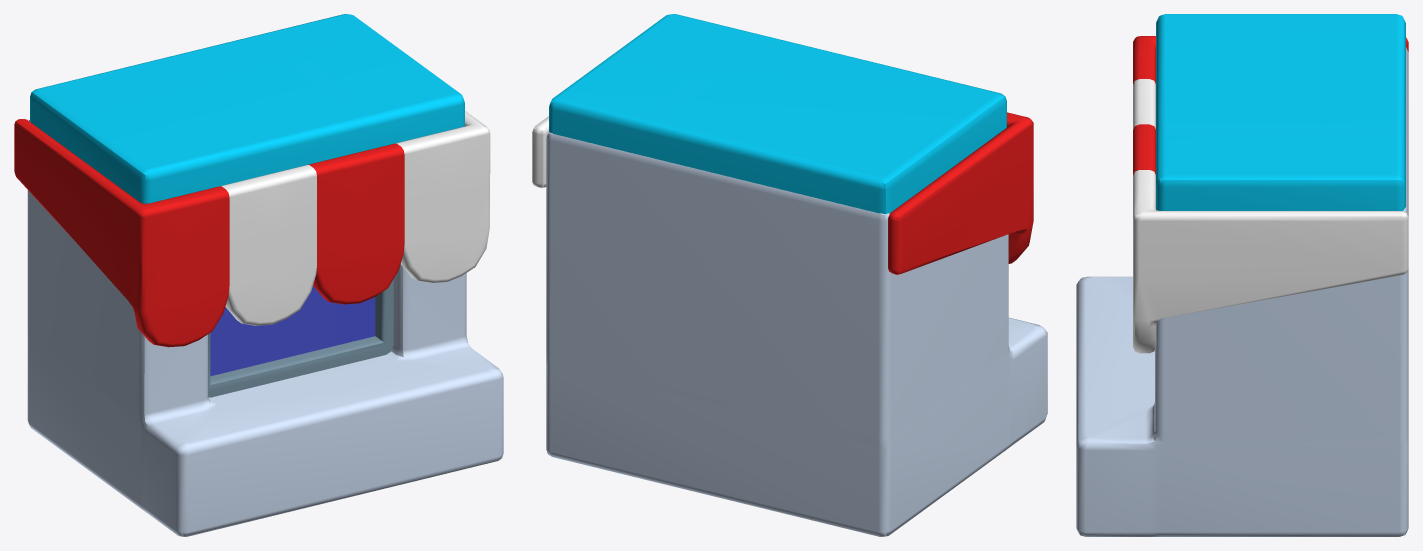
3 renders of one model, left to right at view 1: azimuth 30°, elevation 25°; view 2: azimuth 150°, elevation 25°; view 3: azimuth 270°, elevation 25°, orthographic. The views are drawn at different scales.
Visible parts, largest first — view 1: model_0.002; view 2: model_0.002; view 3: model_0.002.
Boxes of the visible parts, left/top/right/bottom form: model_0.002: left=14, top=14, right=503, bottom=536; model_0.002: left=532, top=14, right=1047, bottom=536; model_0.002: left=1076, top=14, right=1408, bottom=536.
Bounding box in the file's own units: 3.5 × 3.24 × 2.7.
